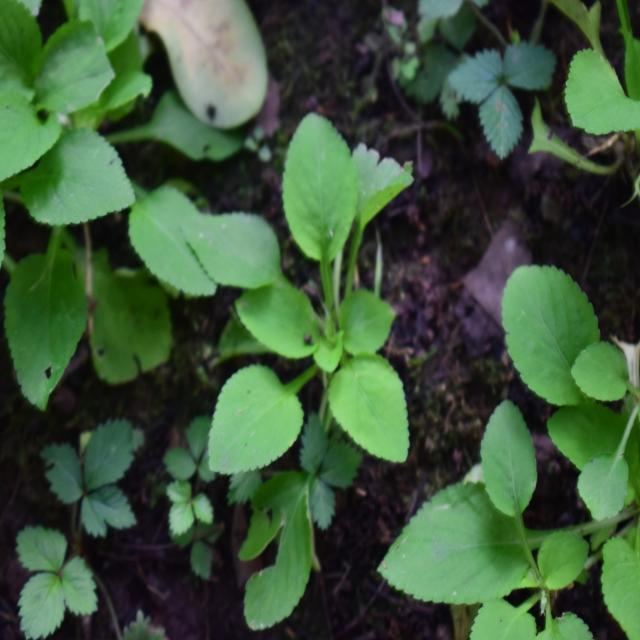Viola: (195, 98, 445, 499)
